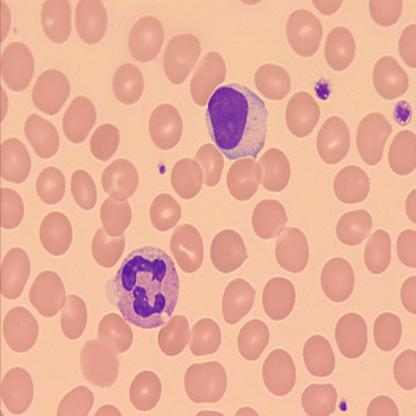Atypical lymphocyte: (204, 80, 269, 161), (116, 246, 178, 330)
